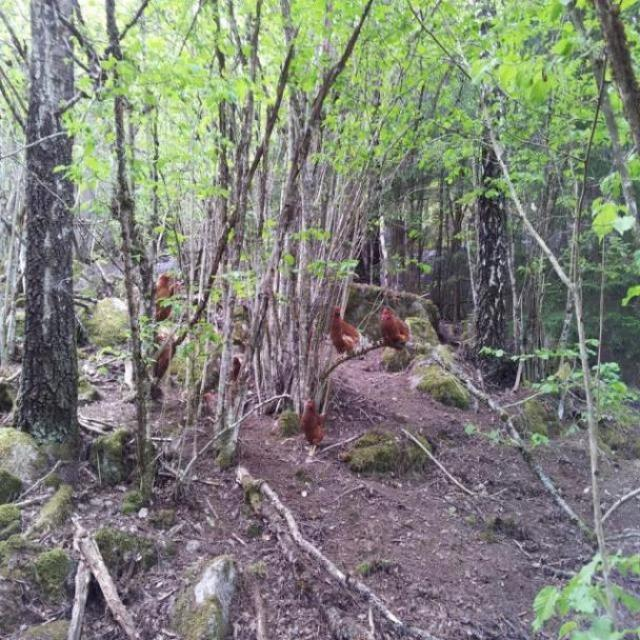Chicken: (293, 395, 335, 464), (134, 268, 174, 321), (147, 331, 179, 395), (329, 305, 362, 364), (379, 305, 412, 355), (153, 277, 185, 323), (231, 352, 245, 390), (305, 325, 315, 357)
